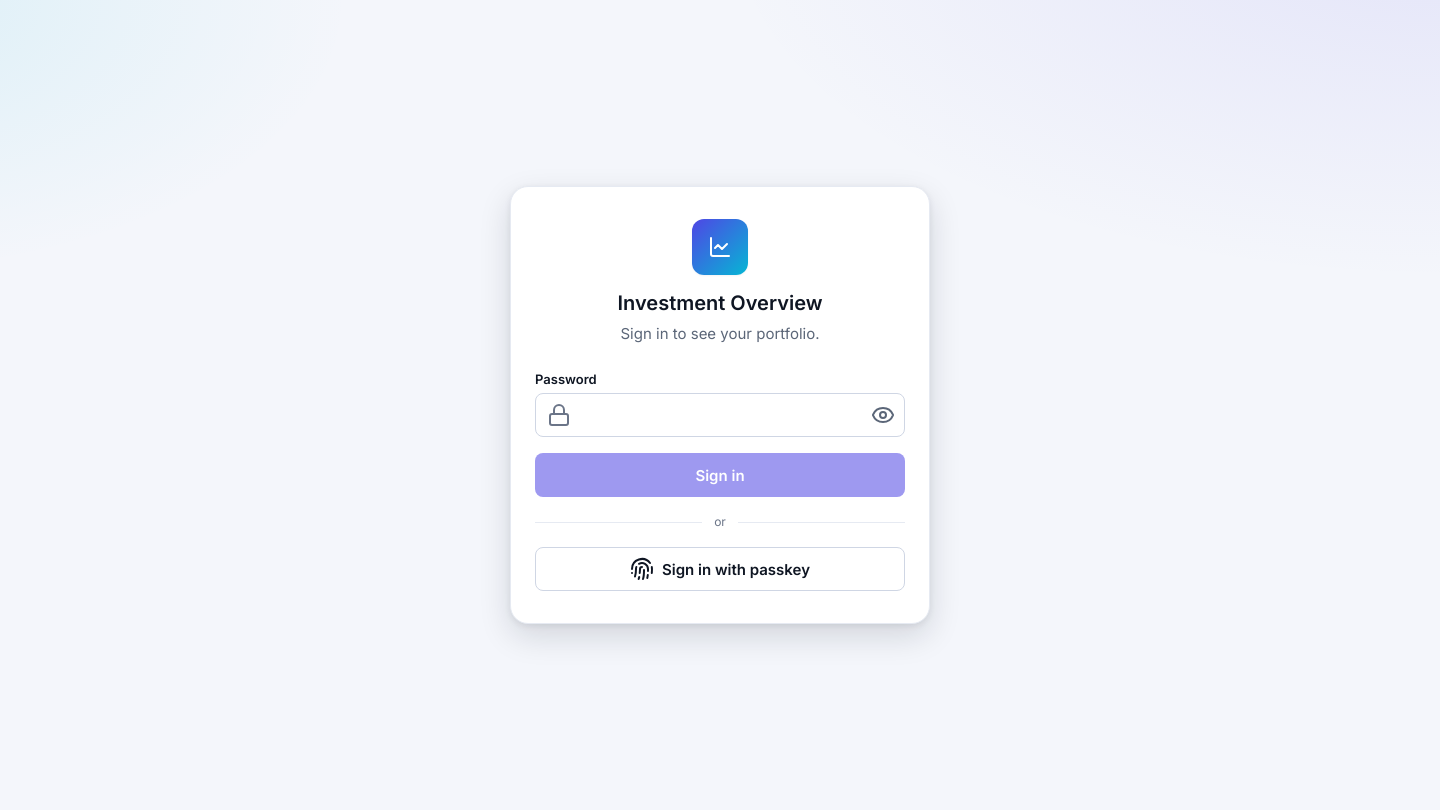
Test: Login › shows wrong-password and rate-limit errors
Type "nope" into the password field labelled "Password" at (720, 415), box [535, 393, 905, 437]
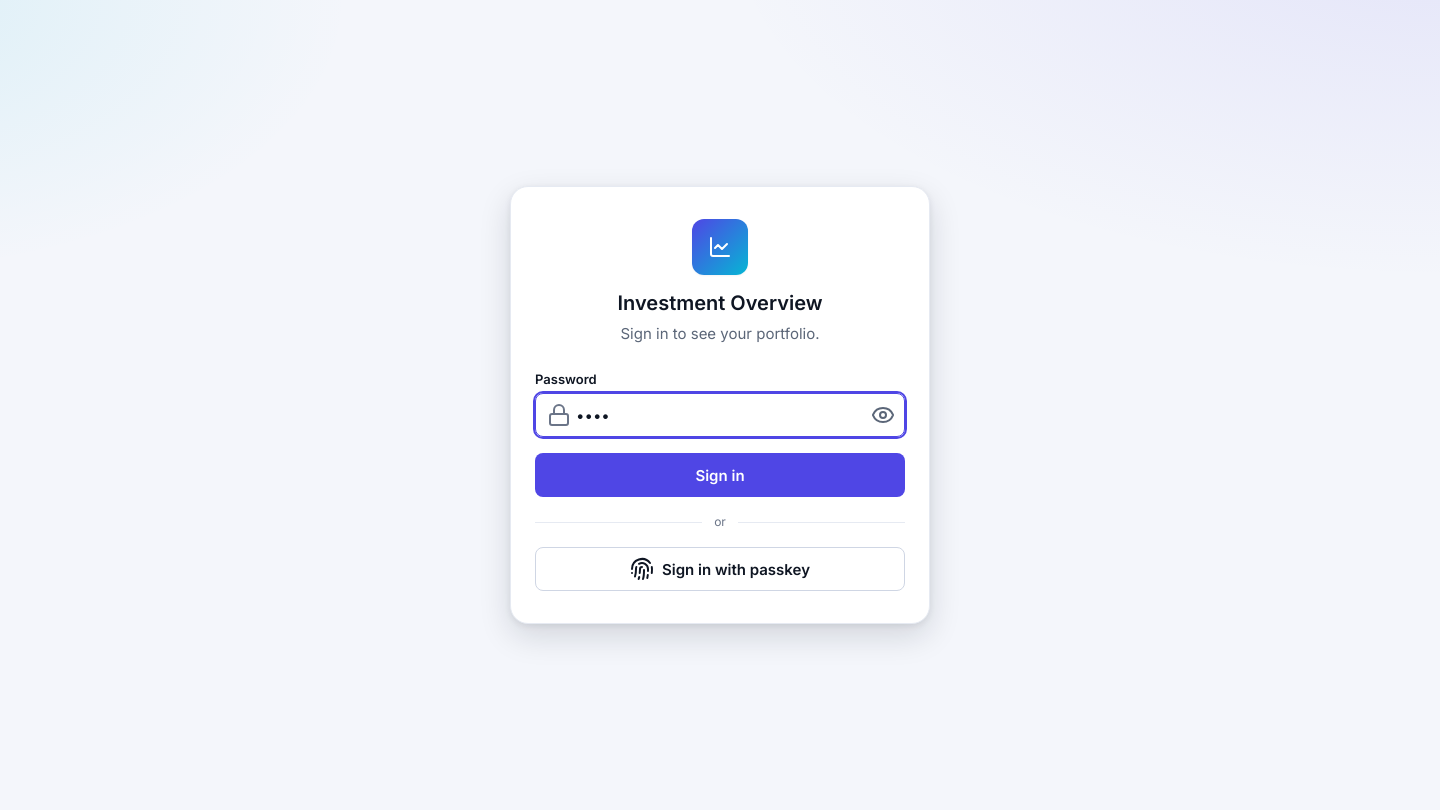
Click the button "Sign in" at (720, 475), box [535, 453, 905, 497]
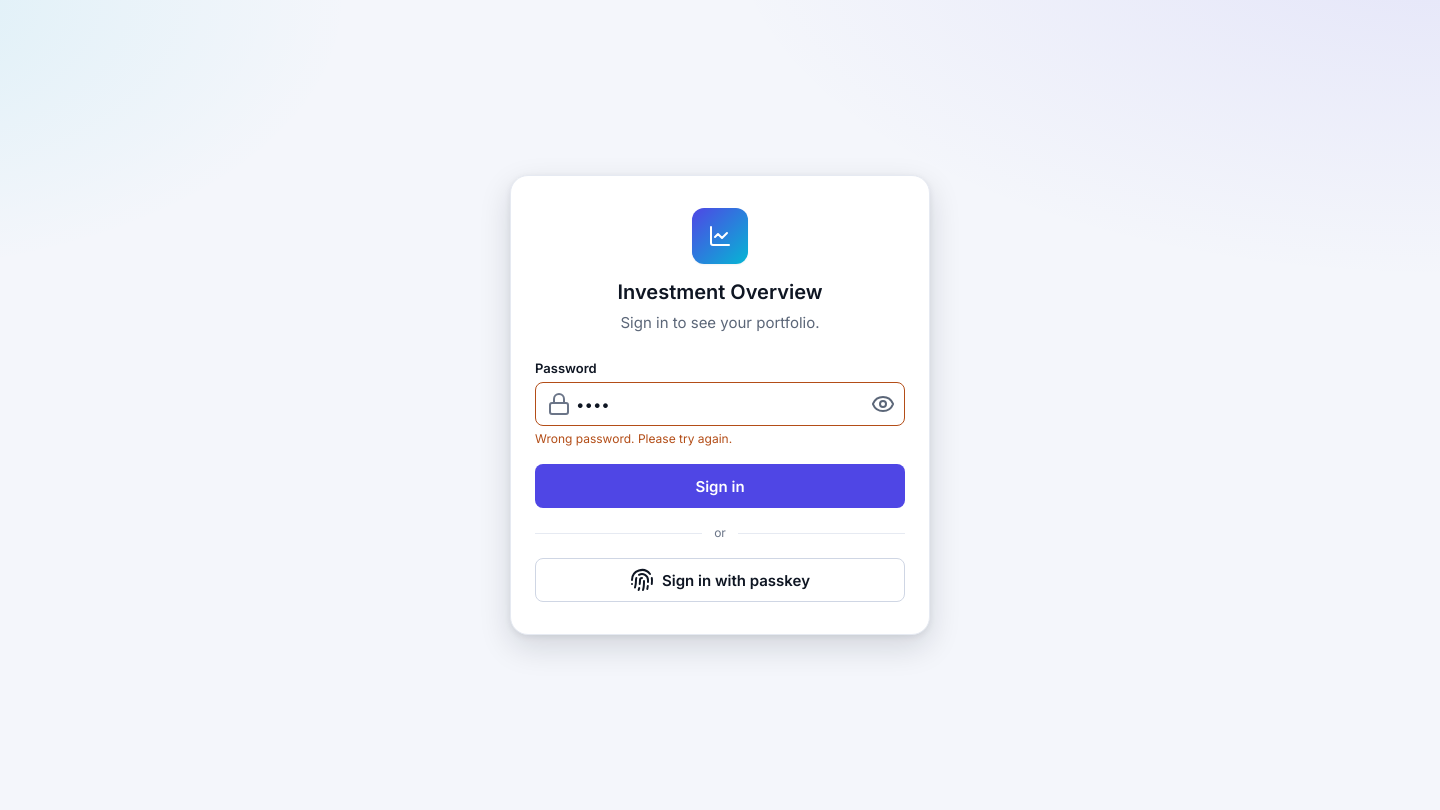
expect the text "Wrong password. Please try again." is shown: met, box [535, 431, 732, 446]
Click the button "Sign in" at (720, 486), box [535, 464, 905, 508]
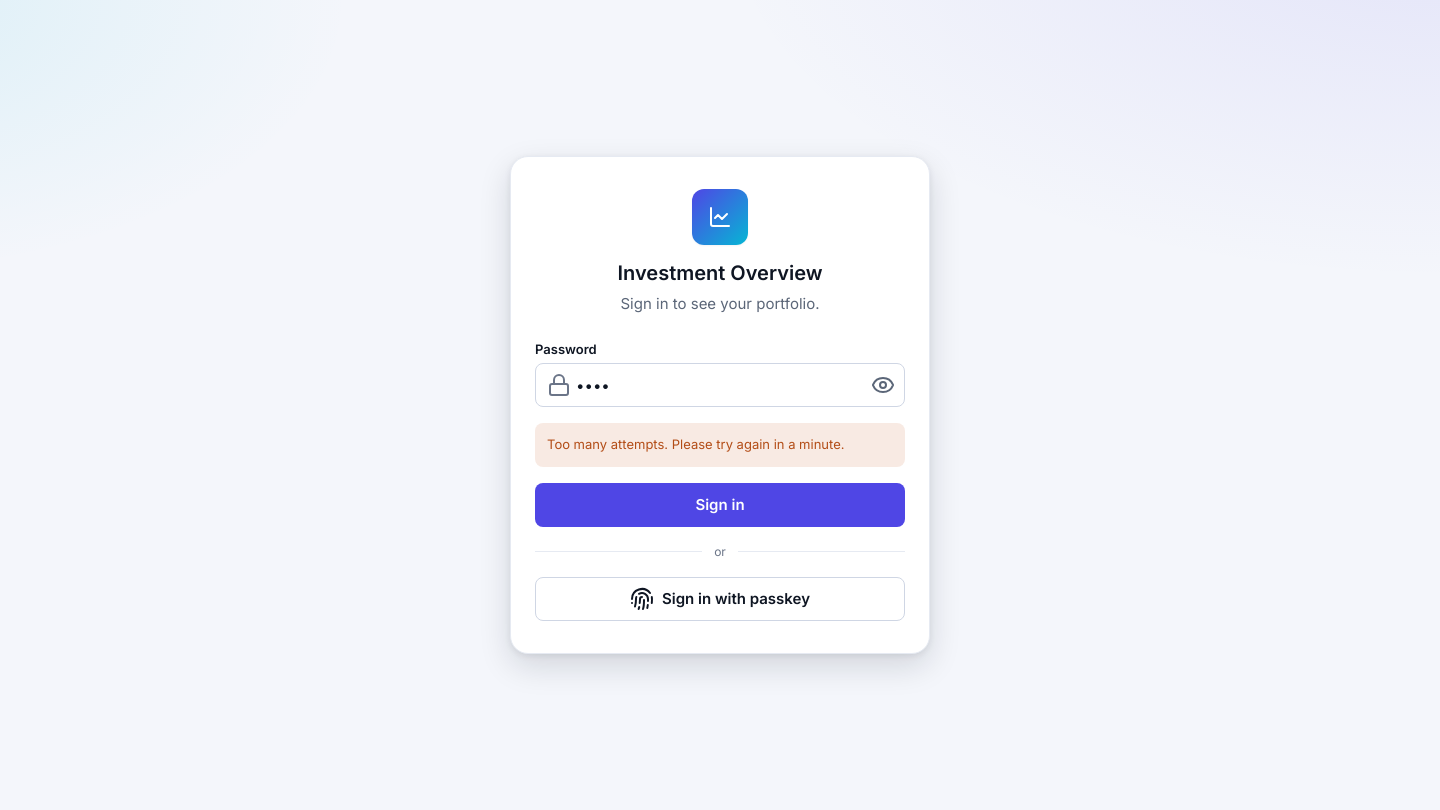
expect the text "Too many attempts. Please try again in a minute." is shown: met, box [535, 423, 905, 467]
